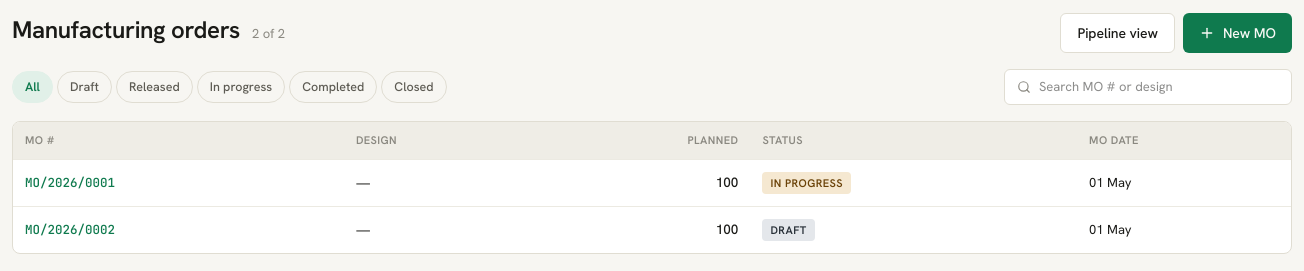
Test: MoList (live-mode integration, TASK-TR-A14-FU) › clicking the Draft filter refetches with ?status=DRAFT
Expected: the link "MO/2026/0001" is shown, [25,174,115,191]
Click the button "Draft". click: (84, 87)
box: [57,71,112,103]
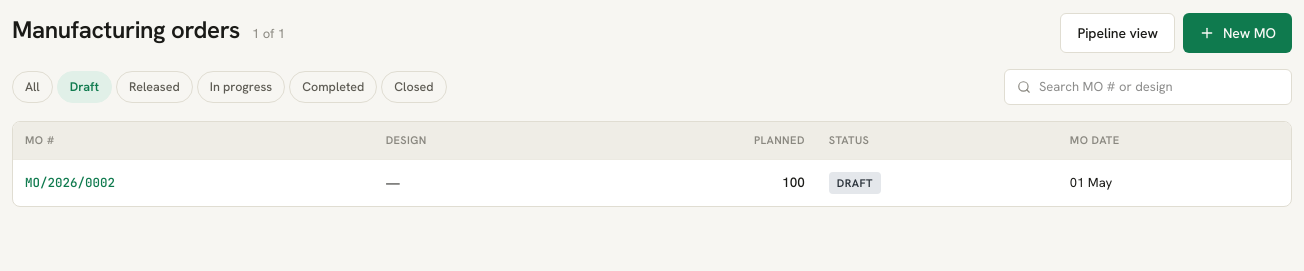
Expected: the link "MO/2026/0002" is shown, [25,174,115,191]
Result: the link "MO/2026/0001" is gone
